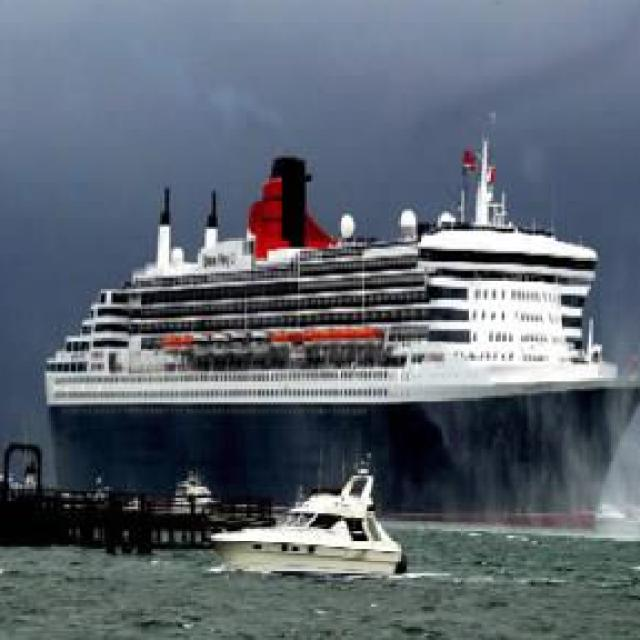houseboat: (200, 460, 394, 573)
passenger ship: (34, 146, 640, 522)
